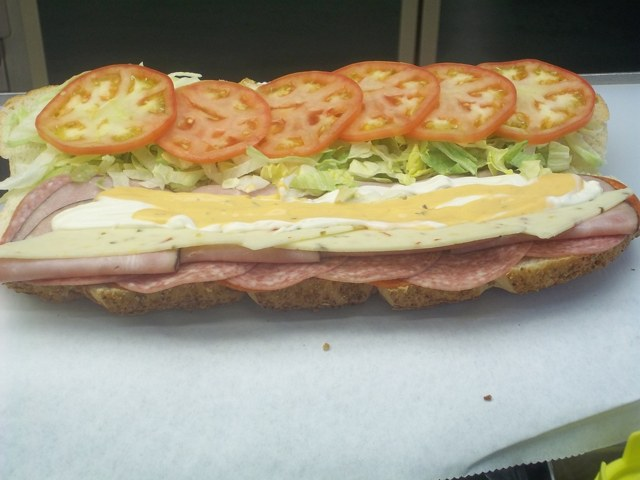tomato: (34, 62, 177, 152), (154, 79, 271, 159), (252, 70, 361, 155), (491, 58, 596, 143), (406, 60, 513, 140), (337, 58, 439, 136)
